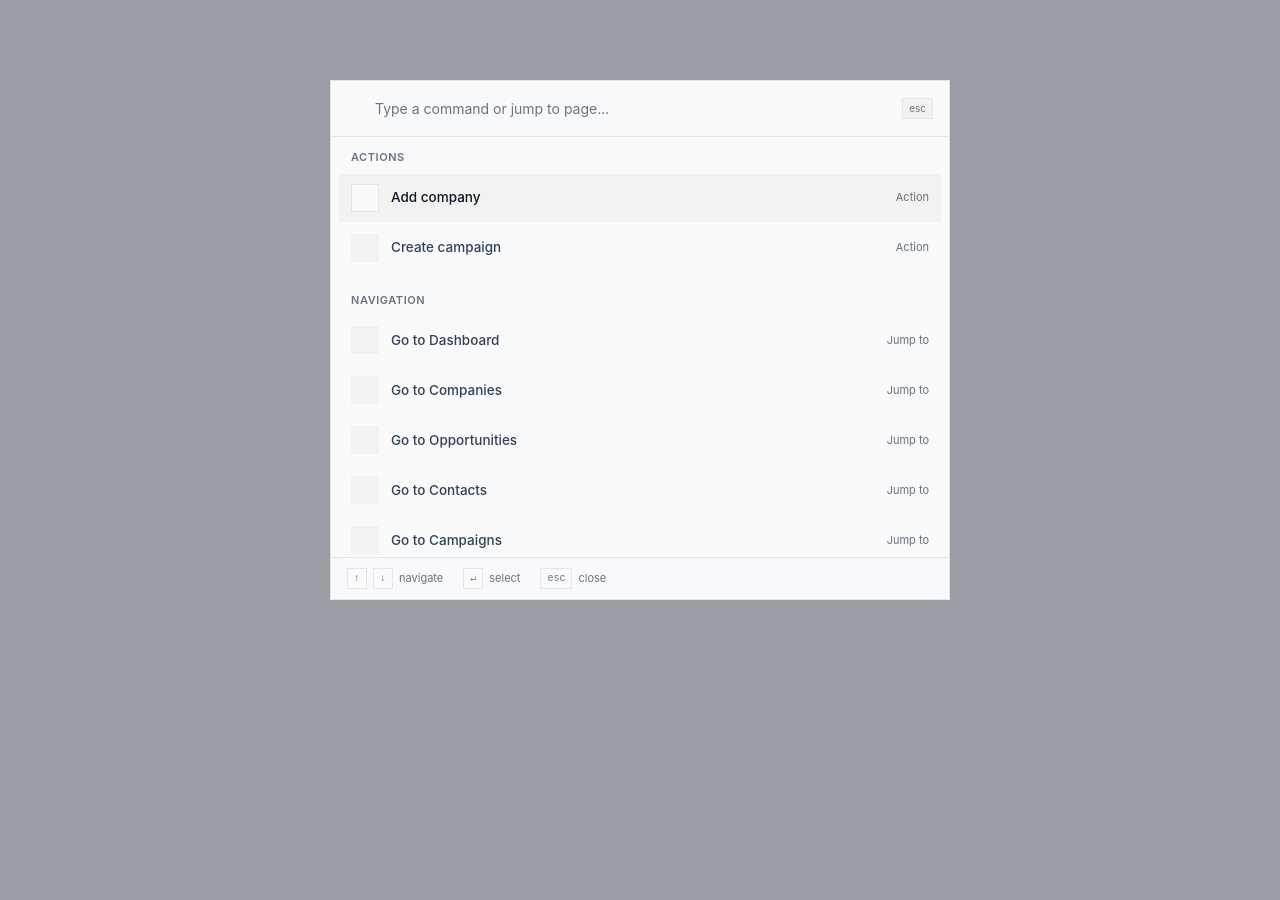
Test case: CommandPalette › shows empty state when no commands match
In the dropdown: (633, 108) [375,98,890,119], type "xyznonexistent123"
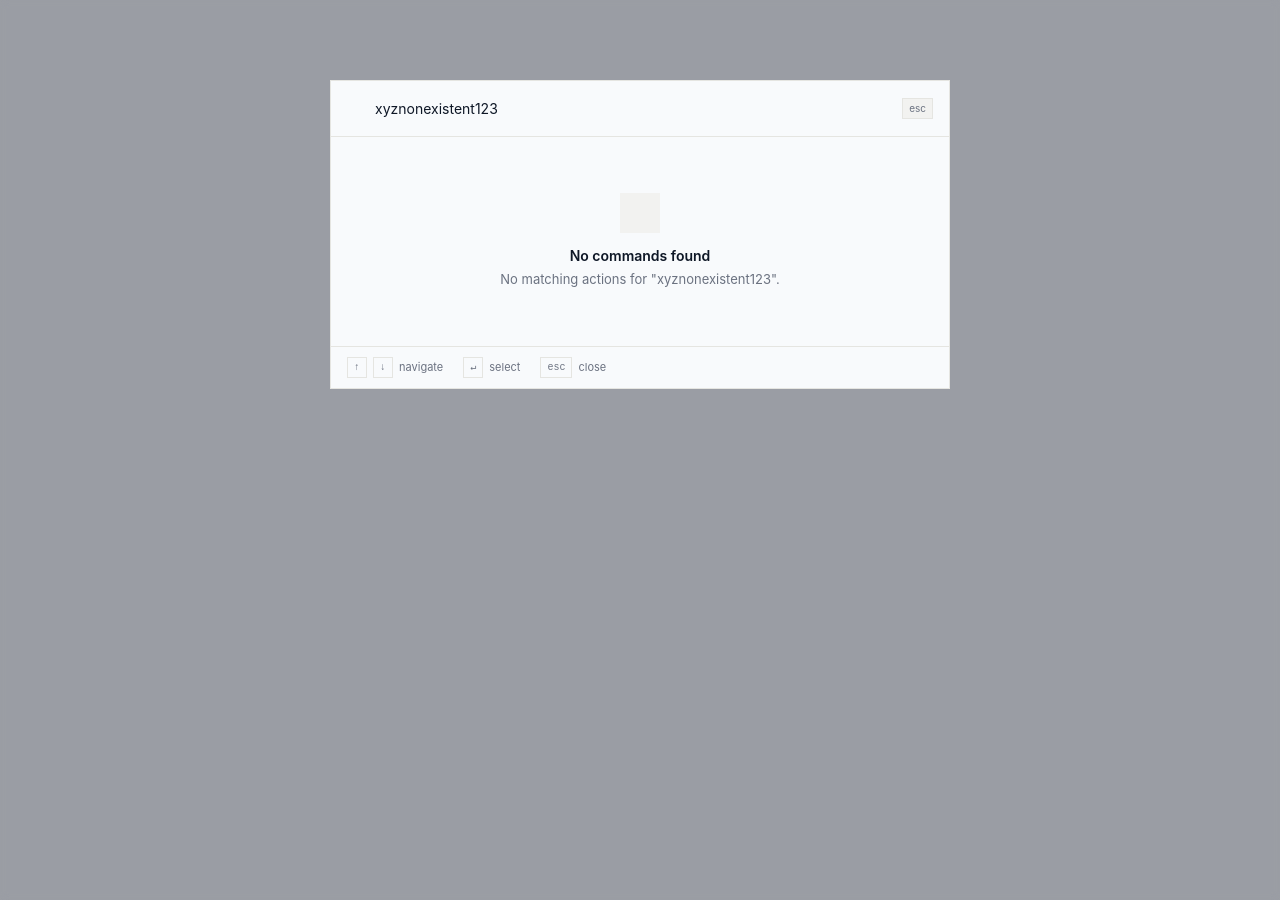
Expected: the text "No commands found" is shown, [570,245,710,266]
